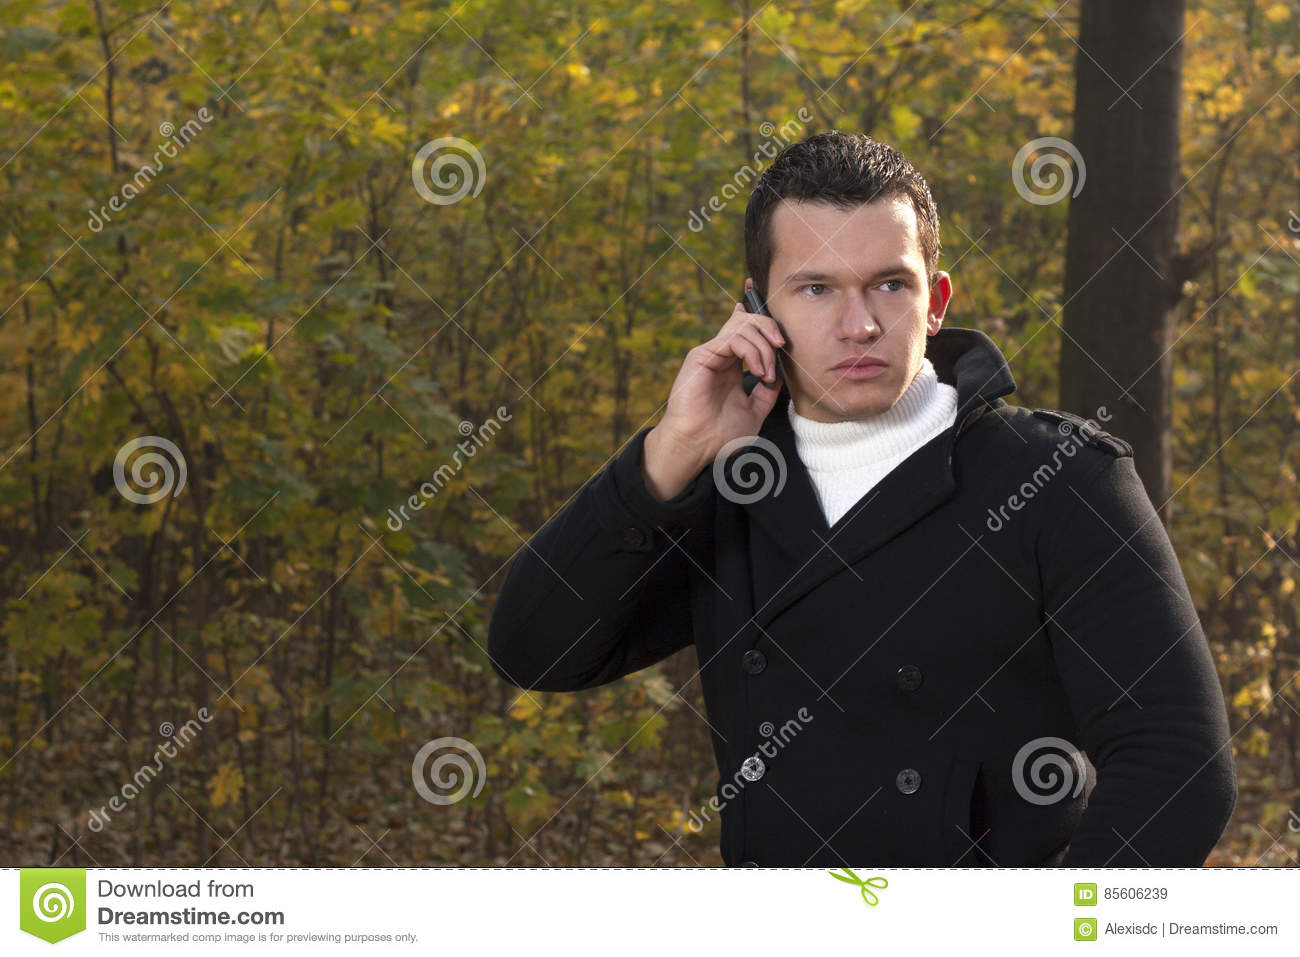phone: (740, 290, 795, 399)
talk: (667, 263, 925, 470)
